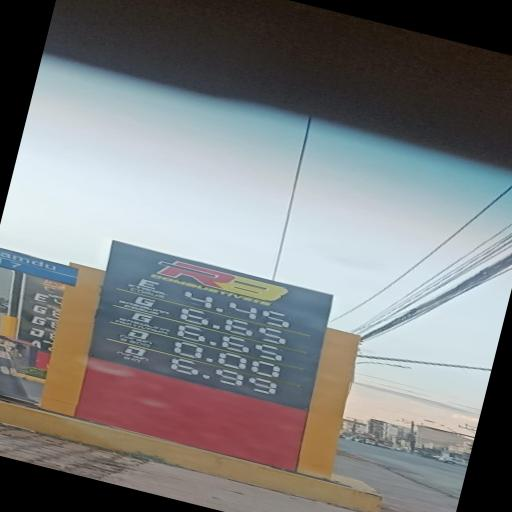ETANOL: (118, 272, 180, 303)
GASOLINA AD: (108, 304, 178, 338)
GASOLINA C: (115, 290, 178, 320)
S10: (101, 340, 163, 370)
placa: (74, 238, 333, 440)
preco: (177, 286, 303, 333), (164, 354, 290, 400), (176, 304, 298, 350), (176, 322, 298, 366)
